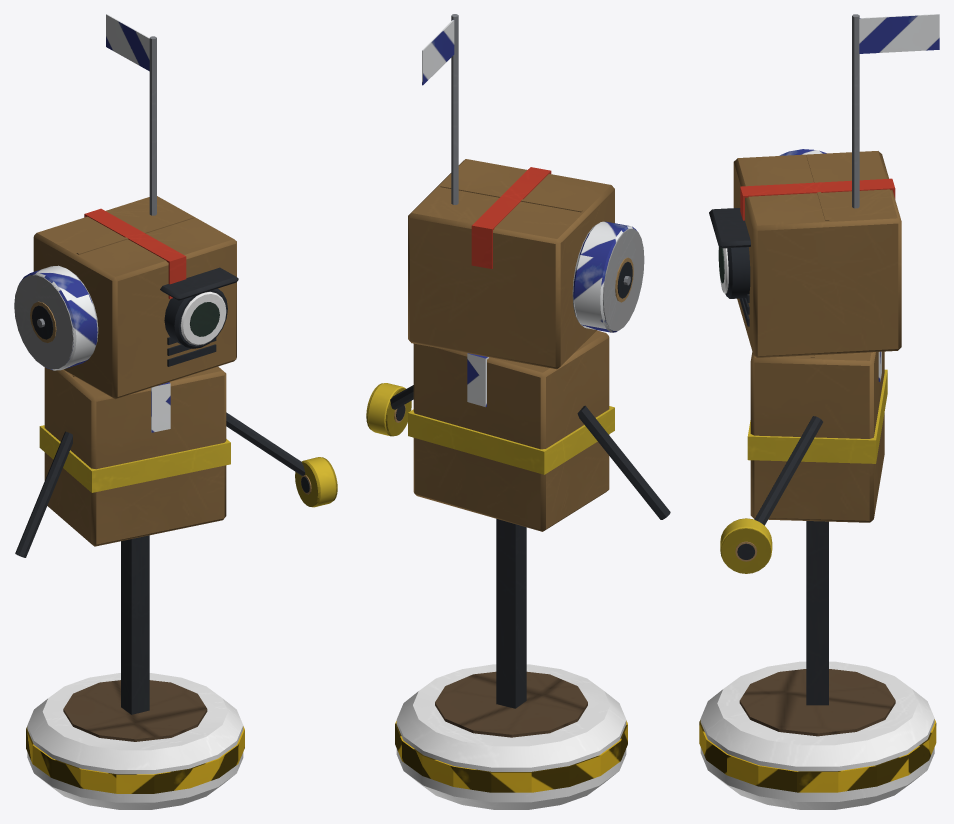
File: spooler_sentinel.glb
3 views of the same model, side by side, from view 1: azimuth 30°, elevation 25°; view 2: azimuth 150°, elevation 25°; view 3: azimuth 270°, elevation 25° (orthographic). The views are drawn at different scales.
Parts seen in each view (by area): view 1: spooler_sentinel; view 2: spooler_sentinel; view 3: spooler_sentinel.
Boxes of the visible parts, x1=… form: spooler_sentinel: x1=14, y1=14, x2=337, y2=809; spooler_sentinel: x1=366, y1=14, x2=670, y2=809; spooler_sentinel: x1=699, y1=14, x2=939, y2=809.
Size of the model in its own units: 1.13 by 2.62 by 0.7408.
17 materials, 17 textured.
